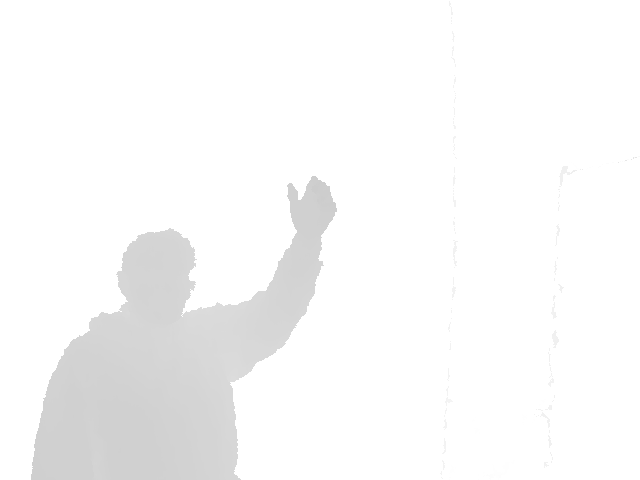hand: (285, 174, 339, 234)
head: (116, 229, 198, 321)
person: (29, 174, 339, 480)
